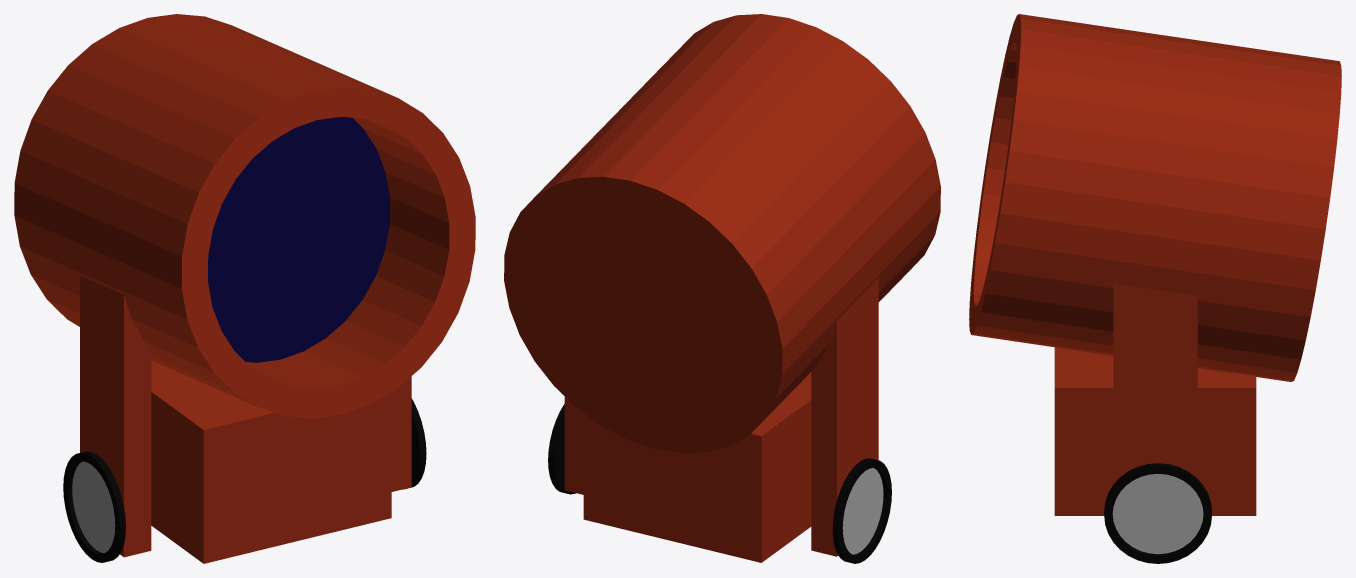
File: SnowTurret.fbx
3 renders of one model, left to right at view 1: azimuth 30°, elevation 25°; view 2: azimuth 150°, elevation 25°; view 3: azimuth 270°, elevation 25°, orthographic. The views are drawn at different scales.
Visible parts, largest first — view 1: Cube.002, Cylinder.001, Cylinder.002; view 2: Cube.002, Cylinder.001, Cylinder.002; view 3: Cube.002, Cylinder.002.
Boxes of the visible parts, x1,y1,x2,y2 form: Cube.002: (14, 14, 475, 563); Cylinder.001: (63, 451, 125, 562); Cylinder.002: (403, 398, 426, 489); Cube.002: (504, 14, 940, 562); Cylinder.001: (832, 458, 891, 563); Cylinder.002: (548, 404, 575, 494); Cube.002: (969, 14, 1341, 543); Cylinder.002: (1104, 463, 1211, 563).
Size of the model in its own units: 209 by 314 by 229.
